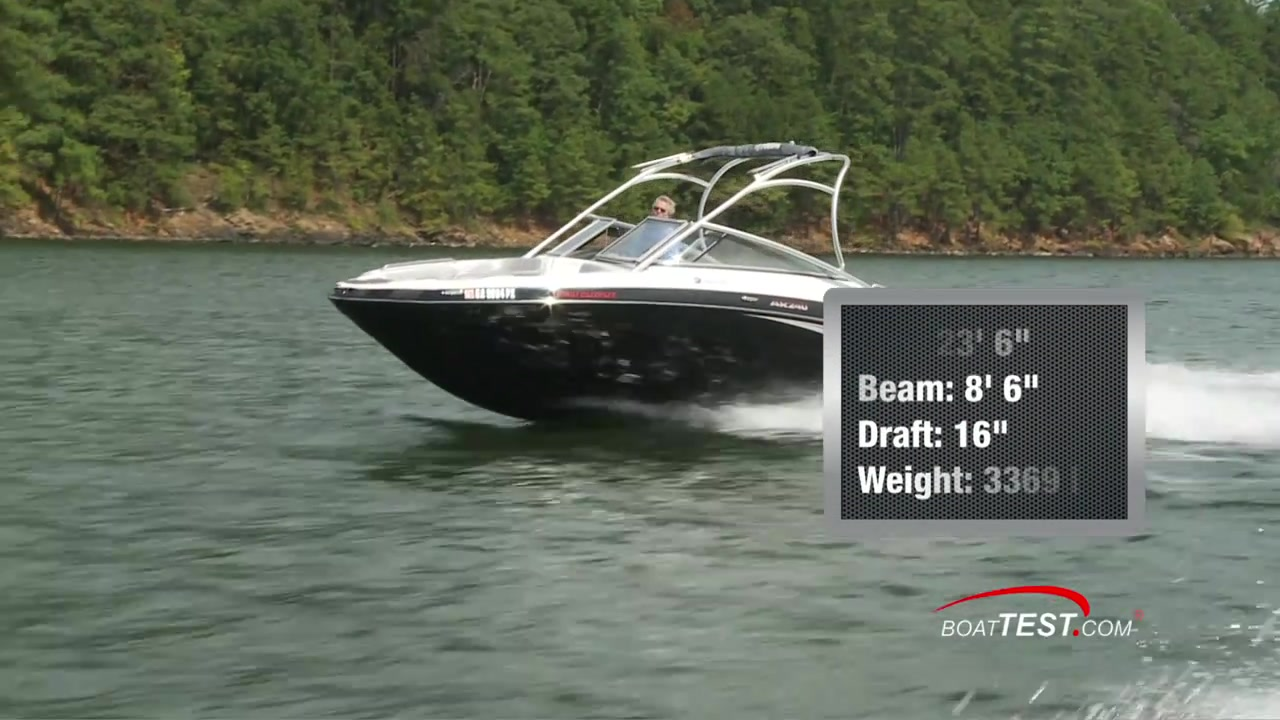boat: (323, 138, 892, 428)
